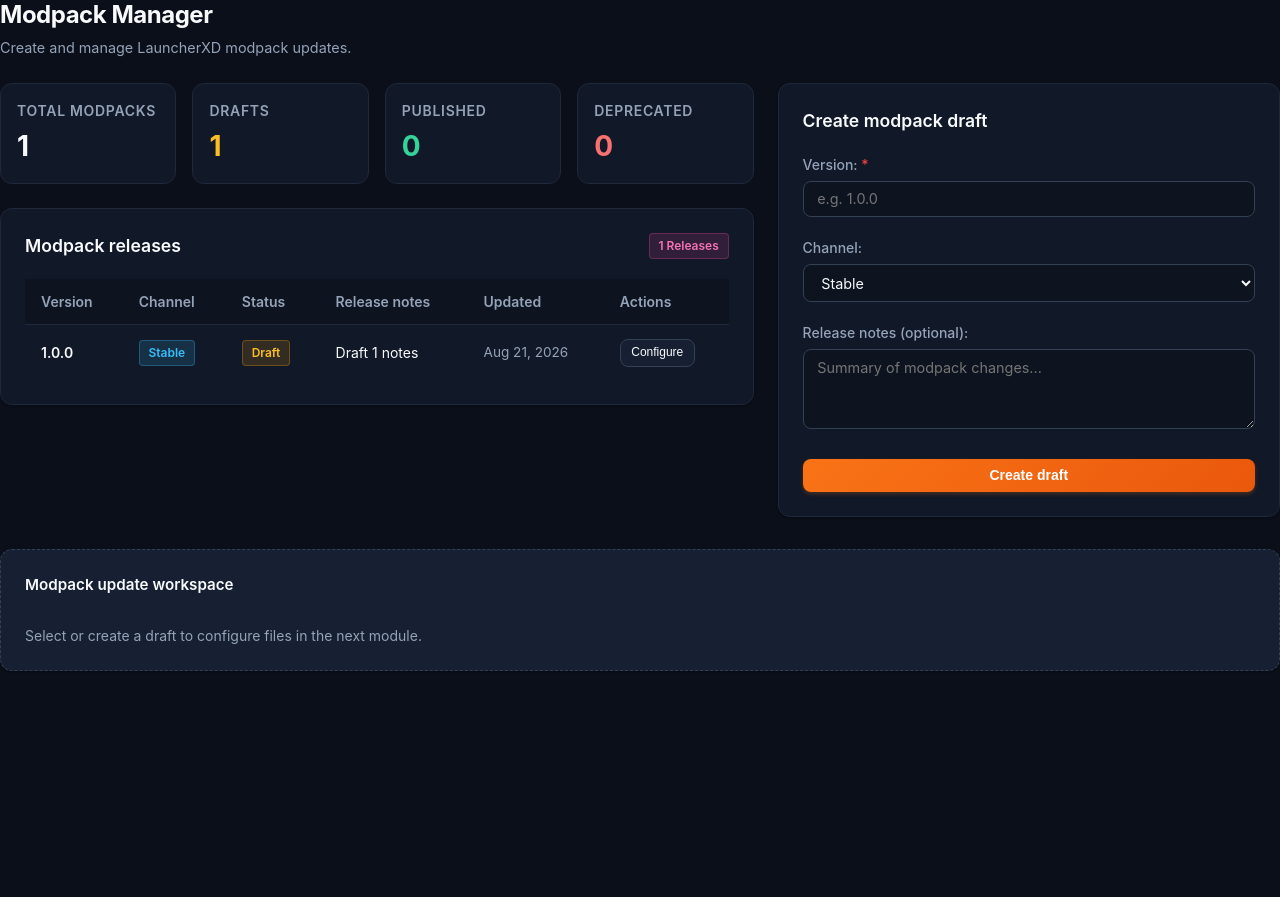
Test: Modpack Workspace Inline UI Functional Tests (Module 3B-1) › 4. Draft workspace renders ReleaseFileForm
The width and height of the screenshot is (1280, 897).
Click the button with test id "configure-modpack-modpack-draft-1" at (657, 353), box [620,339,695,367]
(page scrolled)
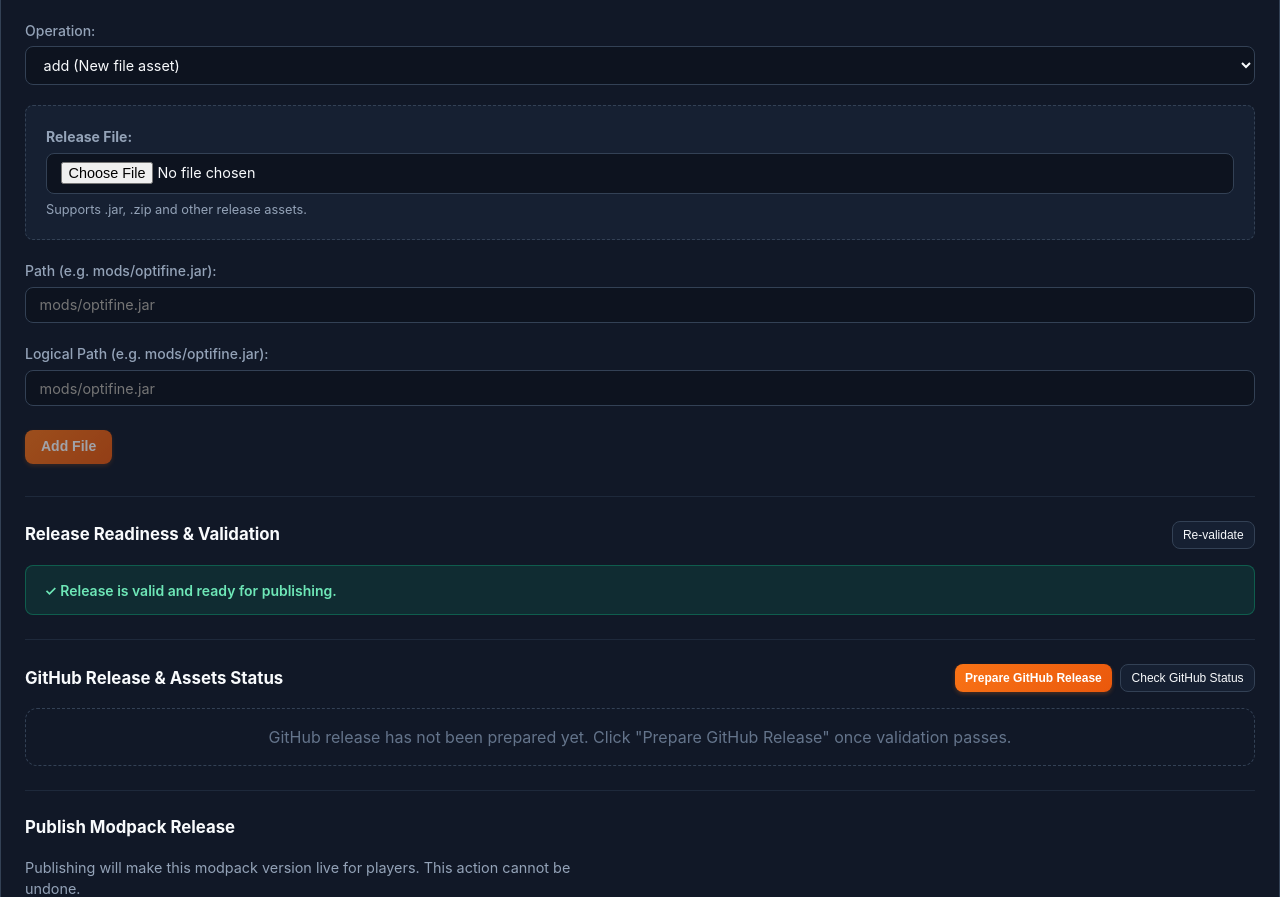
Expected: the file field with test id "local-file-inspect" is shown, [46,153,1234,194]
Expected: the dropdown labelled "Operation:" is shown, [25,46,1255,85]
Expected: the button with test id "submit-asset-btn" is shown, [25,430,112,464]
